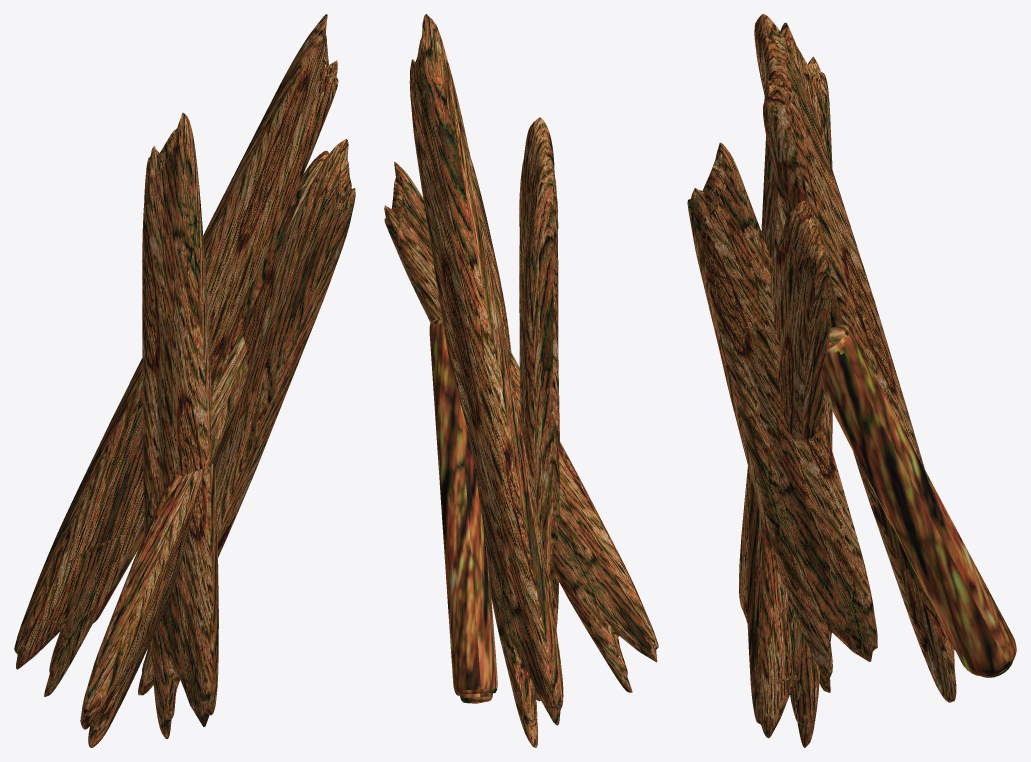
Rendered from treetrunk.glb.
3 renders of one model, left to right at view 1: azimuth 30°, elevation 25°; view 2: azimuth 150°, elevation 25°; view 3: azimuth 270°, elevation 25°, orthographic. The views are drawn at different scales.
Parts seen in each view (by area): view 1: a_steak_raw_132.004, a_steak_raw_132.002, a_steak_raw_132.003, a_steak_raw_132.001; view 2: a_steak_raw_132.004, a_steak_raw_132.001, a_steak_raw_132.002, jump_rope_246.010, a_steak_raw_132.003; view 3: a_steak_raw_132.003, a_steak_raw_132.004, jump_rope_246.010, a_steak_raw_132.002, a_steak_raw_132.001.
Part boxes in pixels (left/top/right/bottom): a_steak_raw_132.004: left=14, top=14, right=338, bottom=697; a_steak_raw_132.002: left=142, top=112, right=218, bottom=738; a_steak_raw_132.003: left=138, top=139, right=355, bottom=695; a_steak_raw_132.001: left=80, top=150, right=329, bottom=747; a_steak_raw_132.004: left=409, top=14, right=563, bottom=747; a_steak_raw_132.001: left=384, top=162, right=658, bottom=692; a_steak_raw_132.002: left=519, top=117, right=559, bottom=701; jump_rope_246.010: left=429, top=319, right=497, bottom=703; a_steak_raw_132.003: left=471, top=159, right=511, bottom=351; a_steak_raw_132.003: left=687, top=142, right=877, bottom=692; a_steak_raw_132.004: left=754, top=14, right=956, bottom=702; jump_rope_246.010: left=822, top=324, right=1016, bottom=677; a_steak_raw_132.002: left=747, top=22, right=832, bottom=747; a_steak_raw_132.001: left=739, top=200, right=831, bottom=623.
Bounding box in the file's own units: 0.3382 × 0.8414 × 0.3084.
Materials: 1 (1 with a texture image).
